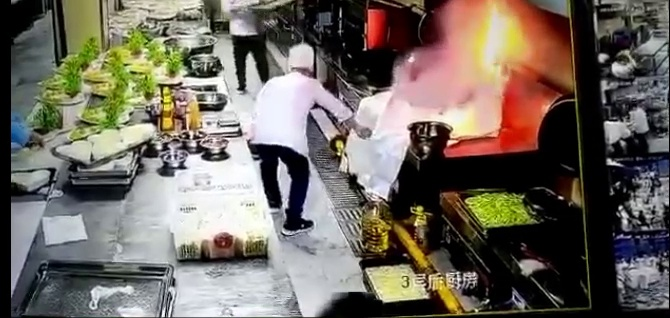fire: (455, 1, 526, 89)
